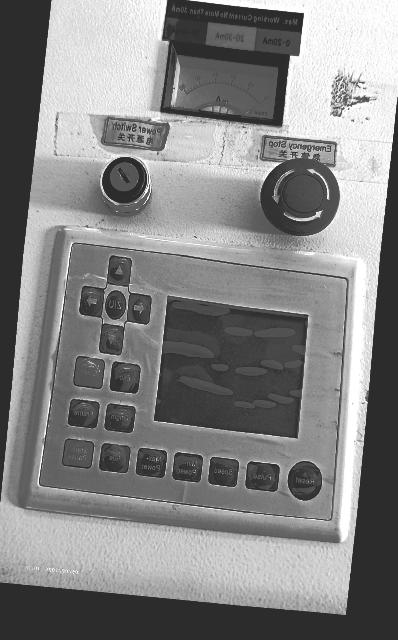Amp_Meter: (165, 54, 278, 120)
Display: (154, 296, 308, 439)
Down_button: (100, 324, 123, 354)
Emergency_Stop: (260, 158, 339, 236)
Enter_button: (74, 357, 104, 389)
Esc_button: (110, 362, 140, 393)
File_button: (100, 444, 130, 473)
Frame_button: (68, 399, 99, 428)
Left_button: (128, 295, 150, 324)
Max-Power_button: (136, 448, 167, 477)
Min-Power_button: (173, 453, 203, 482)
Origin_button: (105, 404, 135, 433)
Power_switch: (100, 156, 152, 217)
Pulse_button: (246, 462, 279, 492)
Reset_button: (288, 461, 322, 500)
Right_button: (79, 286, 104, 316)
Speed_button: (209, 458, 238, 487)
Start-Pause_button: (62, 439, 94, 468)
Up_button: (107, 256, 131, 286)
Z_U_button: (106, 291, 126, 319)
